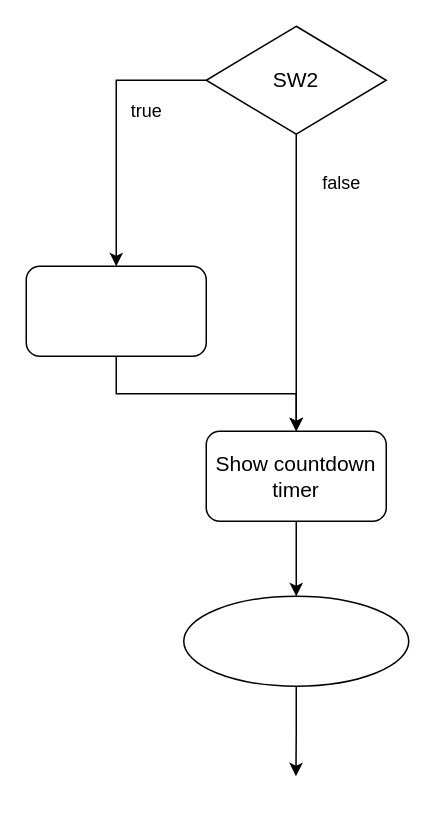
The diagram is 435 pixels wide and 815 high, and some of its shapes have lost their labels. The shapes that lost their labels are listed below. From the top down, each one's centre as x and y in pixels, then its label:
point (115, 310): Set countdown timer
point (295, 640): sw2 = false
